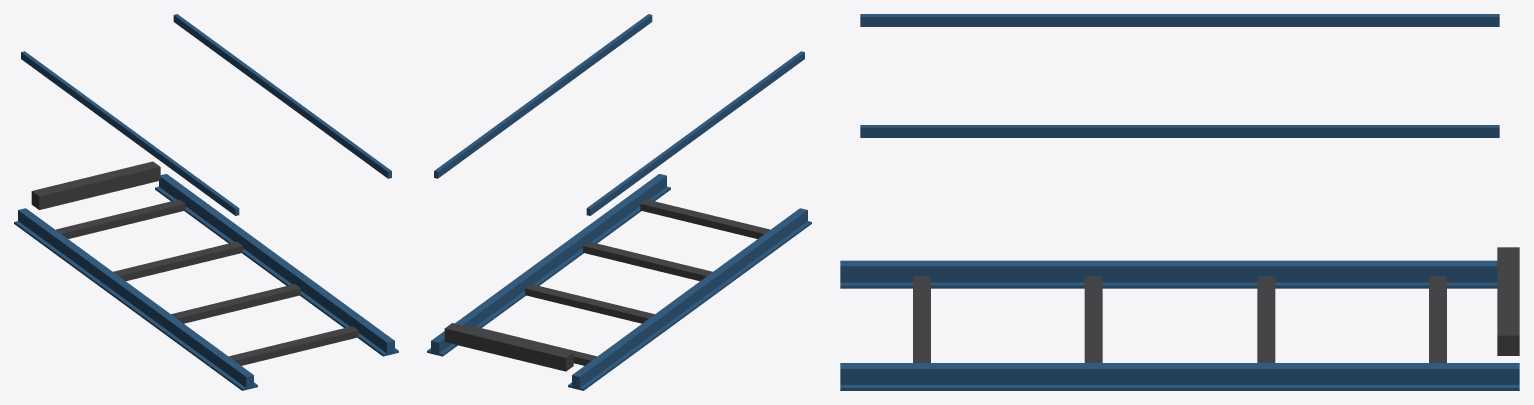
File: c20_rail.obj
3 views of the same model, side by side, from view 1: azimuth 30°, elevation 25°; view 2: azimuth 150°, elevation 25°; view 3: azimuth 270°, elevation 25° (orthographic). The views are drawn at different scales.
Visible parts, largest first — view 1: c20_rail; view 2: c20_rail; view 3: c20_rail.
Part boxes in pixels (x1=…): c20_rail: x1=14, y1=14, x2=398, y2=390; c20_rail: x1=427, y1=14, x2=811, y2=390; c20_rail: x1=840, y1=14, x2=1519, y2=390.
Bounding box in the file's own units: 2.4 × 2.59 × 6.06.
